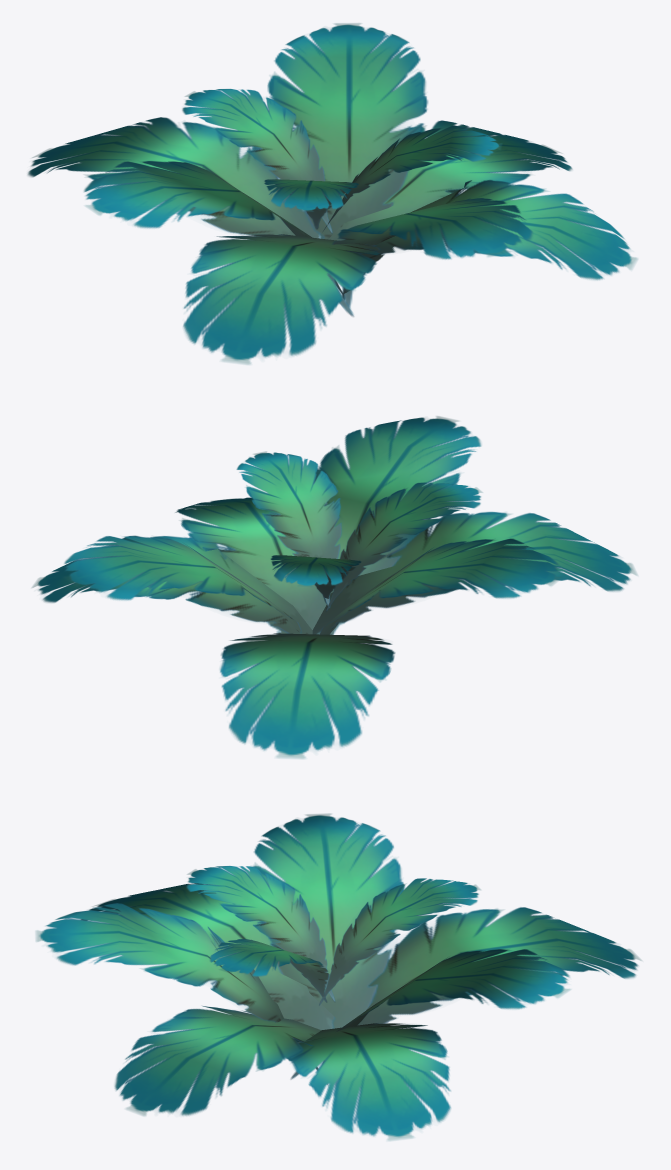
File: leafage1.glb
The picture shows the model from 3 angles, top to bottom: view 1: azimuth 30°, elevation 25°; view 2: azimuth 150°, elevation 25°; view 3: azimuth 270°, elevation 25°; orthographic projection. The views are drawn at different scales.
Parts seen in each view (by area): view 1: Leafage1; view 2: Leafage1; view 3: Leafage1.
Part boxes in pixels (bbox=[...]): Leafage1: bbox=[27, 23, 637, 364]; Leafage1: bbox=[32, 416, 637, 758]; Leafage1: bbox=[36, 813, 641, 1140].
Bounding box in the file's own units: 1.38 × 0.4325 × 1.47.
Materials: 1 (1 with a texture image).
